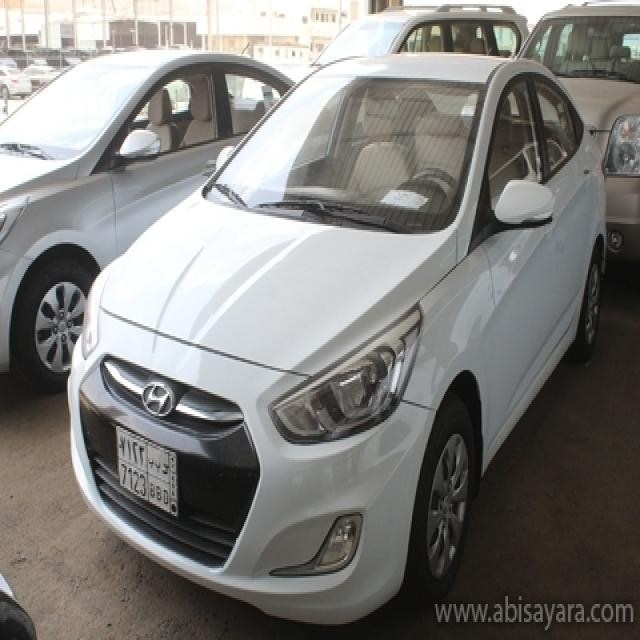license_plate: (115, 422, 180, 520)
